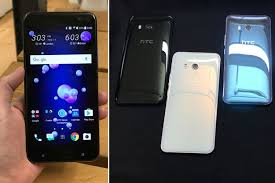htc: (115, 8, 171, 107), (220, 9, 272, 109)
